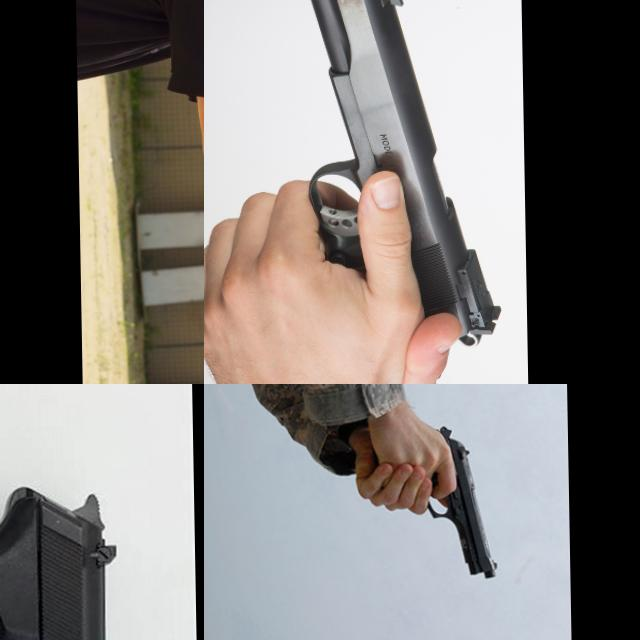handgun: (302, 0, 501, 350), (0, 480, 173, 640), (422, 424, 498, 580)
